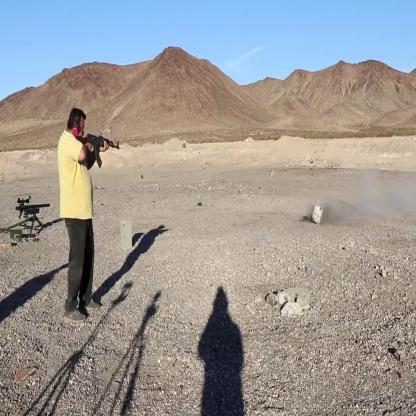long weapon: (68, 131, 126, 171), (11, 186, 51, 234)
